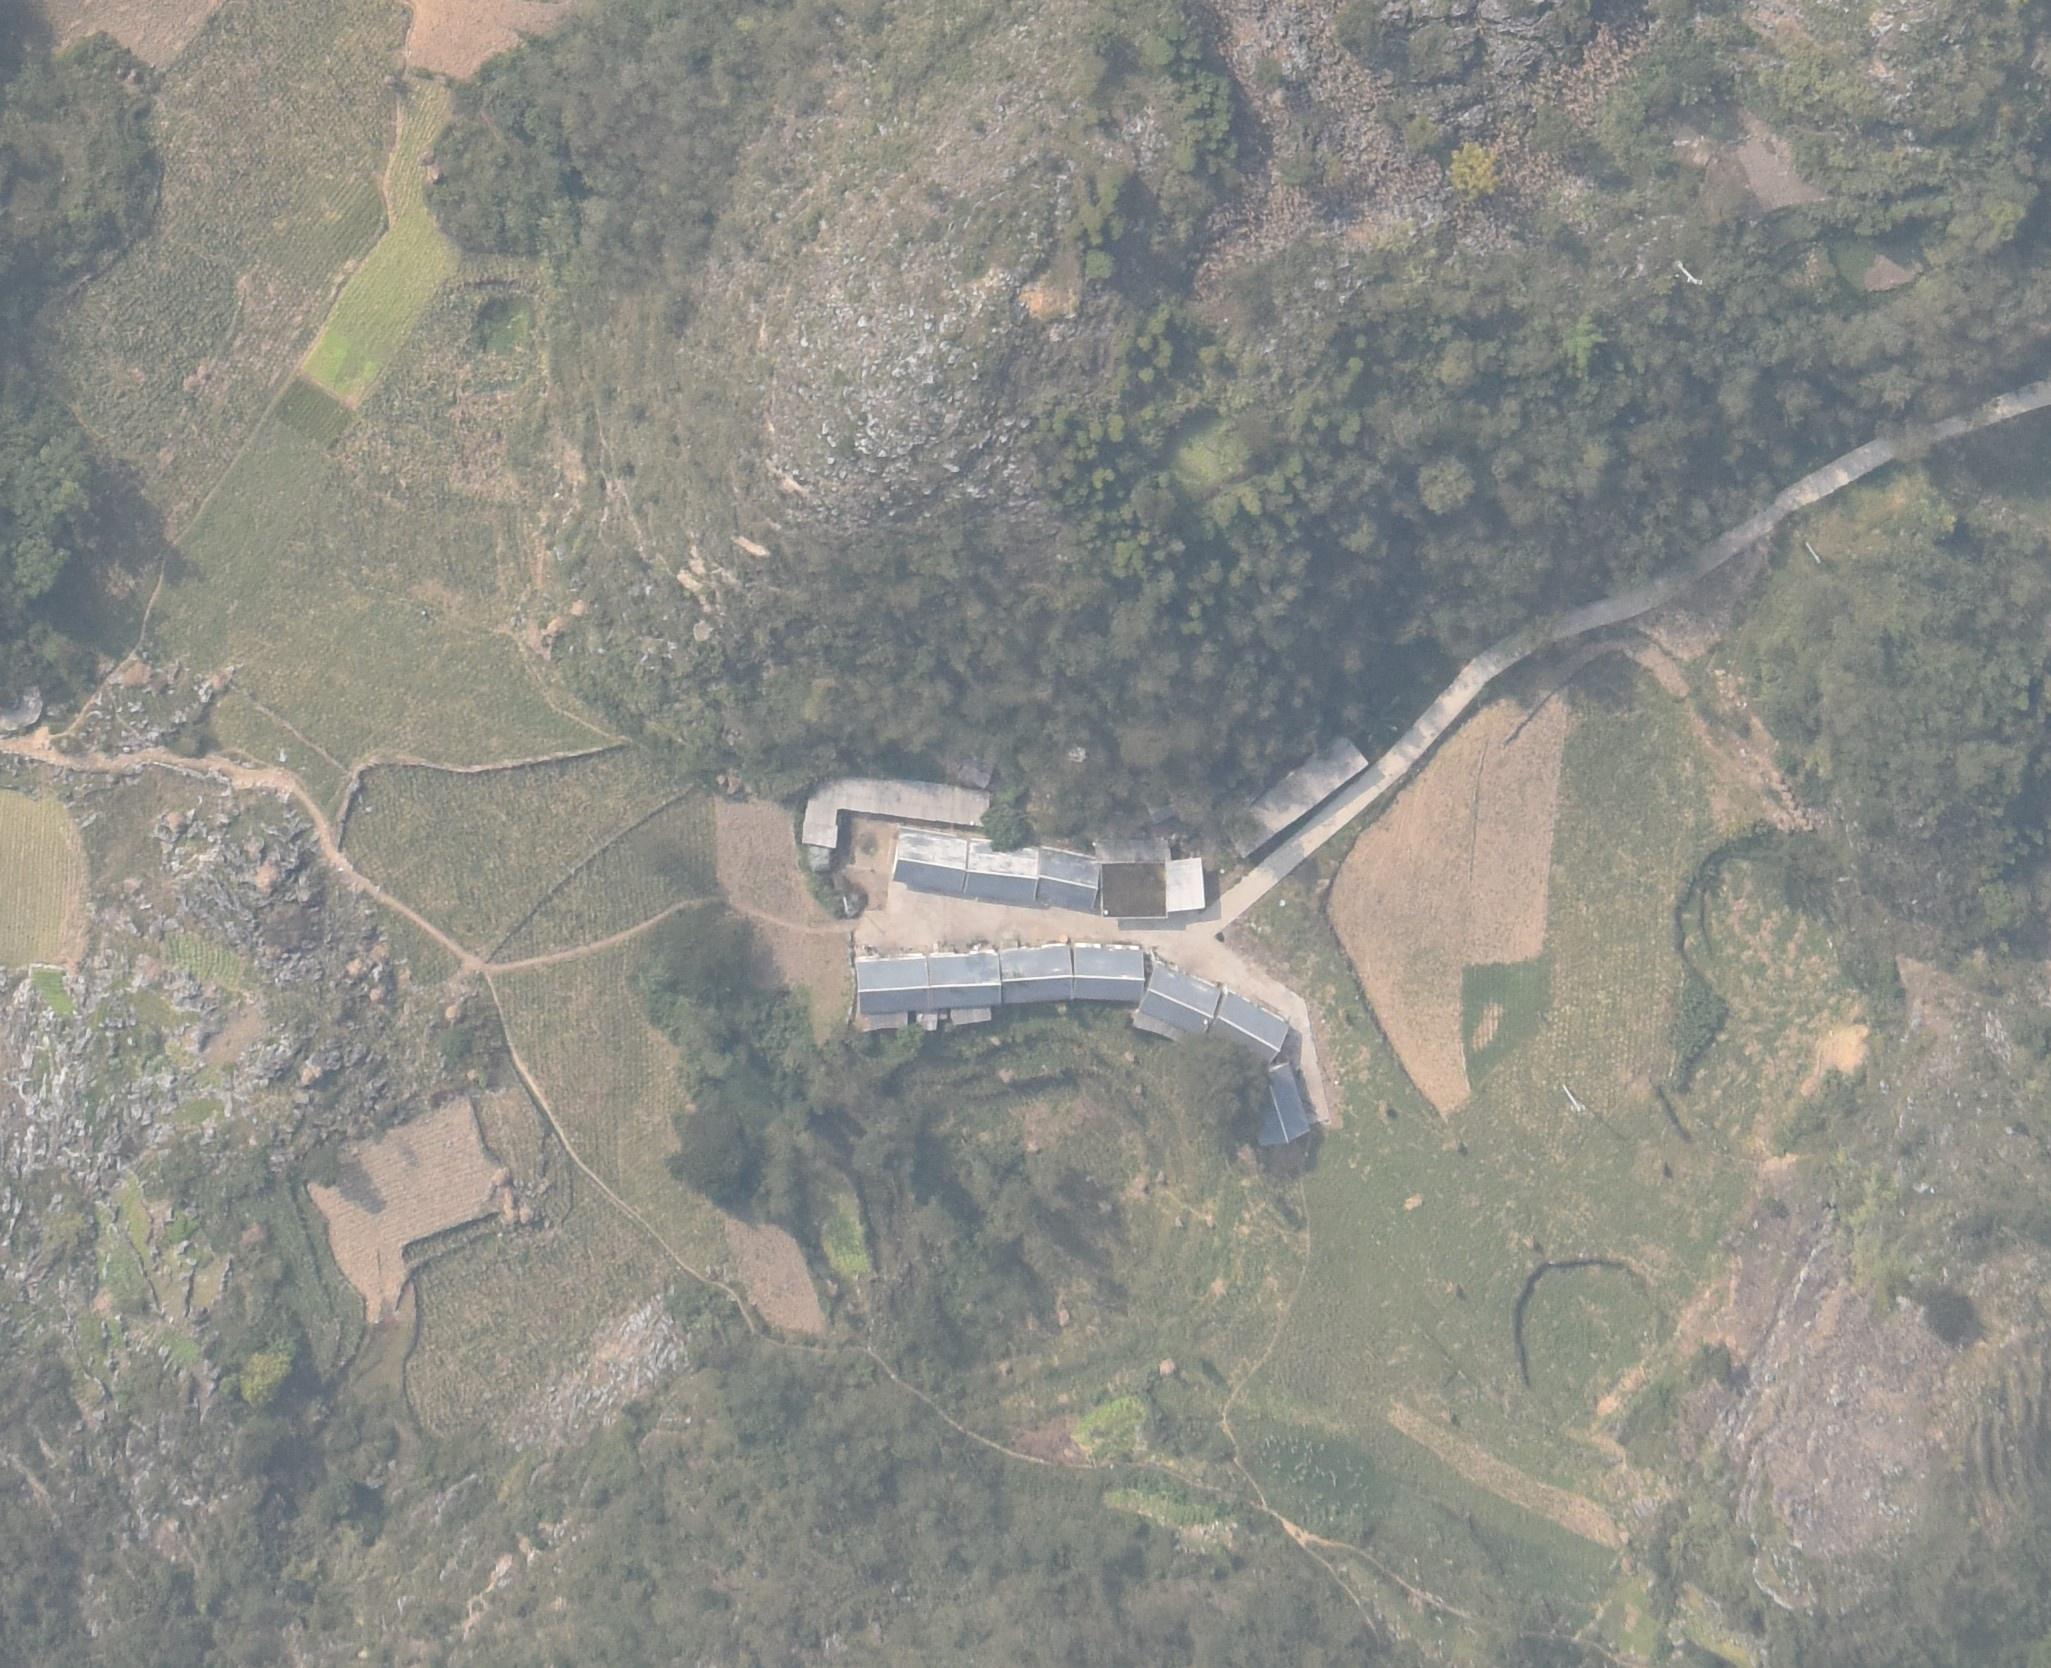building: (1224, 737, 1370, 858), (798, 774, 989, 851), (1208, 992, 1290, 1065), (1244, 1059, 1311, 1144), (1139, 962, 1219, 1031), (890, 827, 967, 890), (968, 837, 1037, 900), (1037, 846, 1100, 911), (1001, 946, 1074, 1001), (853, 957, 929, 1008), (1072, 945, 1145, 997), (1100, 861, 1166, 919), (929, 953, 1001, 1004), (1164, 860, 1207, 911)
cable-tower: (1561, 1084, 1585, 1115), (1804, 541, 1821, 563)
